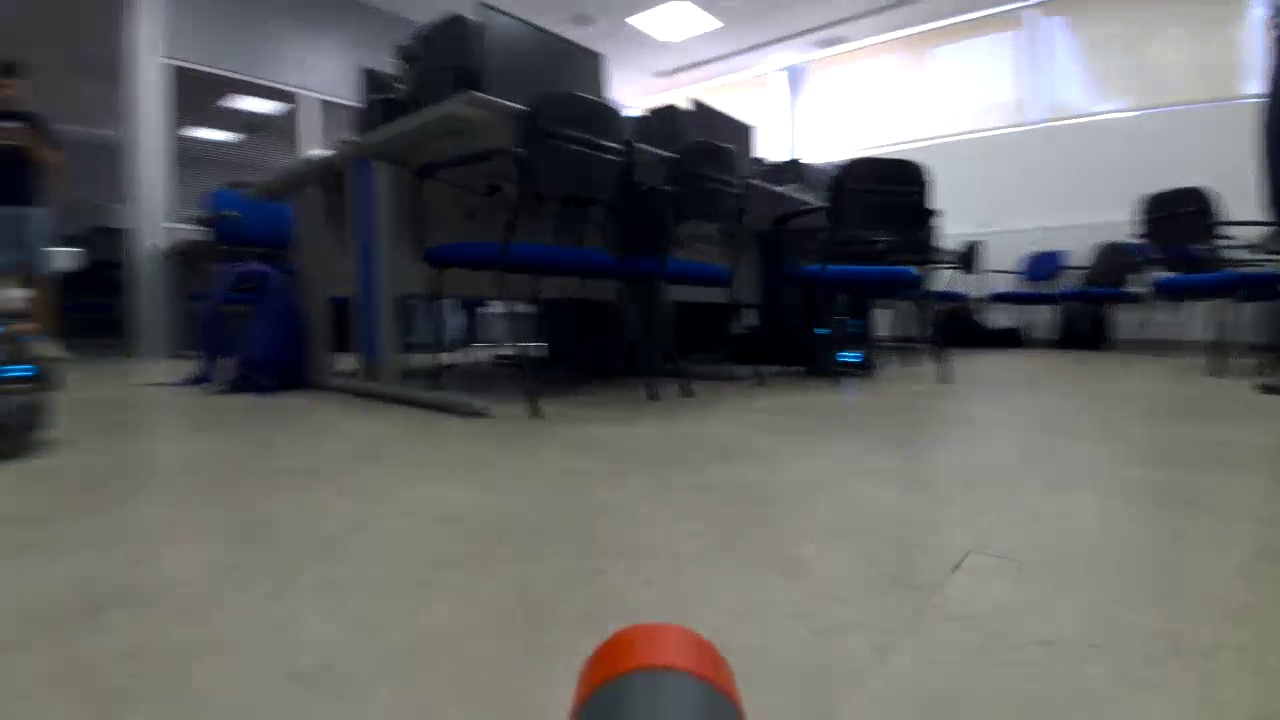robot: (1, 310, 96, 465), (809, 310, 886, 390)
